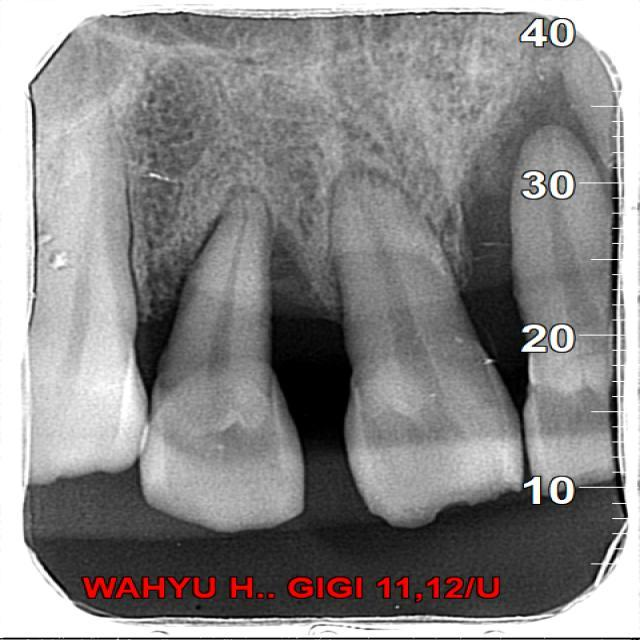individual-tooth-8tto: (326, 168, 530, 521), (137, 198, 303, 535)
